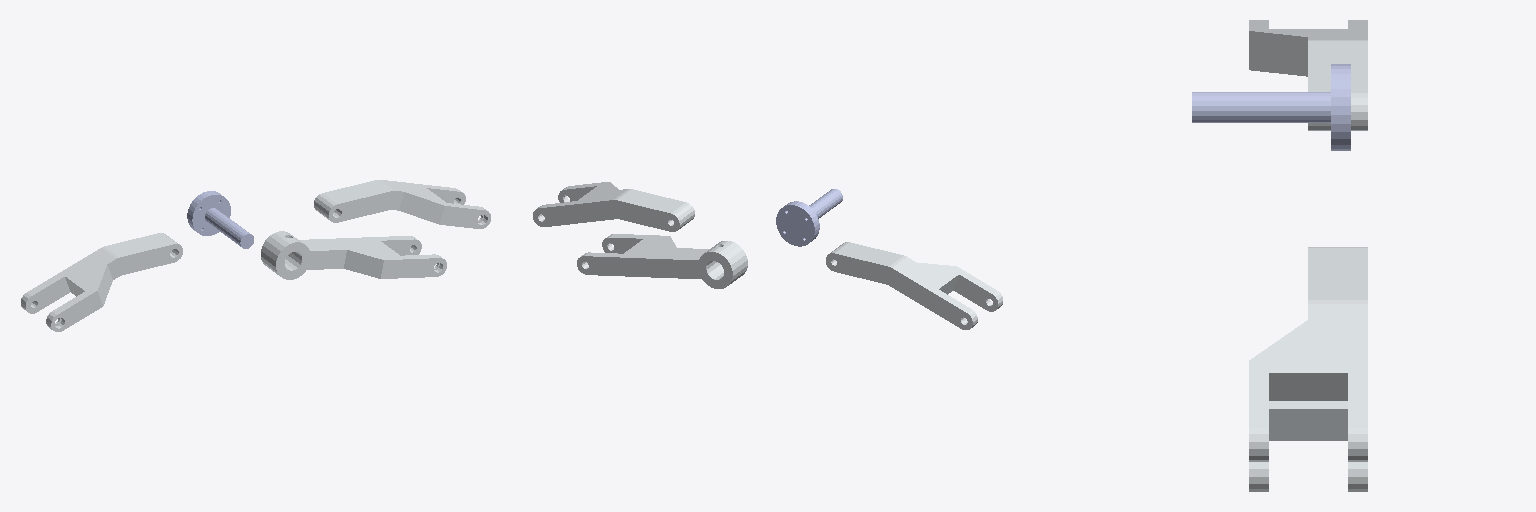
robot.urdf — gripper:
<robot

  
  name="gripper">
  <link
    name="base_link">
    <inertial>
      <origin
        xyz="0.000314385625916895 -0.0110896096035867 -0.0421598850024997"
        rpy="0 0 0" />
      <mass
        value="1.15466628725613" />
      <inertia
        ixx="0"
        ixy="0"
        ixz="0"
        iyy="0"
        iyz="0"
        izz="0" />
    </inertial>
    <self_collide>True</self_collide>
    <visual>
      <origin
        xyz="0 0 0"
        rpy="0 0 0" />
      <geometry>
        <mesh
          filename="package://suii_gripper/meshes/base_link.STL" />
      </geometry>
      <material
        name="">
        <color
          rgba="0.898039215686275 0.917647058823529 0.929411764705882 1" />
      </material>
    </visual>
    <collision>
      <origin
        xyz="0 0 0"
        rpy="0 0 0" />
      <geometry>
        <mesh
          filename="package://suii_gripper/meshes/base_link.STL" />
      </geometry>
    </collision>
  </link> 
  <link 
    name="servo_link">
    <inertial>
      <origin
        xyz="3.58979339309951E-16 0.0122205346294046 -6.93889390390723E-18"
        rpy="0 0 0" />
      <mass
        value="0.00361974305546616" />
      <inertia
        ixx="0"
        ixy="0"
        ixz="0"
        iyy="0"
        iyz="0"
        izz="0" />
    </inertial>
    <self_collide>True</self_collide>
    <visual>
      <origin
        xyz="0 0 0"
        rpy="0 0 0" />
      <geometry>
        <mesh
          filename="package://suii_gripper/meshes/servo_link.STL" />
      </geometry>
      <material
        name="">
        <color
          rgba="0.792156862745098 0.819607843137255 0.933333333333333 1" />
      </material>
    </visual>
    <collision>
      <origin
        xyz="0 0 0"
        rpy="0 0 0" />
      <geometry>
        <mesh
          filename="package://suii_gripper/meshes/servo_link.STL" />
      </geometry>
    </collision>
  </link>
  <joint
    name="servo"
    type="continuous">
    <origin
      xyz="-0.02175 0.01426 -0.0285"
      rpy="0 0 3.1416" />
    <parent
      link="base_link" />
    <child
      link="servo_link" />
    <axis
      xyz="0 1 0" />
  </joint> 
  <link
    name="rightTilted_link">
    <inertial>
      <origin
        xyz="0.0362280758621729 -0.00440456680250059 -0.00401068190727637"
        rpy="0 0 0" />
      <mass
        value="0.034397394962144" />
      <inertia
        ixx="0"
        ixy="0"
        ixz="0"
        iyy="0"
        iyz="0"
        izz="0" />
    </inertial>
    <self_collide>True</self_collide>

    <visual>
      <origin
        xyz="0 0 0"
        rpy="0 0 0" />
      <geometry>
        <mesh
          filename="package://suii_gripper/meshes/rightTilted_link.STL" />
      </geometry>
      <material
        name="">
        <color
          rgba="0.898039215686275 0.917647058823529 0.929411764705882 1" />
      </material>
    </visual>
    <collision>
      <origin
        xyz="0 0 0"
        rpy="0 0 0" />
      <geometry>
        <mesh
          filename="package://suii_gripper/meshes/rightTilted_link.STL" />
      </geometry>
    </collision>
  </link>
  <joint
    name="rightTilted"
    type="continuous">
    <origin
      xyz="-0.04625 0.0035 -0.041"
      rpy="0 0 3.1416" />
    <parent
      link="base_link" />
    <child
      link="rightTilted_link" />
    <axis
      xyz="0 1 0" />
  </joint>
  <link
    name="rightStraight_ink">
    <inertial>
      <origin
        xyz="0.031803880095001 -0.00383013954258074 -0.00624412256539431"
        rpy="0 0 0" />
      <mass
        value="0.0412389600755427" />
      <inertia
        ixx="0"
        ixy="0"
        ixz="0"
        iyy="0"
        iyz="0"
        izz="0" />
    </inertial>
    <self_collide>True</self_collide>

    <visual>
      <origin
        xyz="0 0 0"
        rpy="0 0 0" />
      <geometry>
        <mesh
          filename="package://suii_gripper/meshes/rightStraight_ink.STL" />
      </geometry>
      <material
        name="">
        <color
          rgba="0.898039215686275 0.917647058823529 0.929411764705882 1" />
      </material>
    </visual>
    <collision>
      <origin
        xyz="0 0 0"
        rpy="0 0 0" />
      <geometry>
        <mesh
          filename="package://suii_gripper/meshes/rightStraight_ink.STL" />
      </geometry>
    </collision>
  </link>
  <joint
    name="rightStraight"
    type="continuous">
    <origin
      xyz="-0.02125 0.0035 -0.061"
      rpy="0 0 3.1416" />
    <parent
      link="base_link" />
    <child
      link="rightStraight_ink" />
    <axis
      xyz="0 1 0" />
  </joint>
  <link
    name="fingerRightLeft_link">
    <inertial>
      <origin
        xyz="0.00267701171751486 -3.57353036051222E-16 -0.00353142500094274"
        rpy="0 0 0" />
      <mass
        value="0.0360851632485204" />
      <inertia
        ixx="0"
        ixy="0"
        ixz="0"
        iyy="0"
        iyz="0"
        izz="0" />
    </inertial>
    <self_collide>True</self_collide>

    <visual>
      <origin
        xyz="0 0 0"
        rpy="0 0 0" />
      <geometry>
        <mesh
          filename="package://suii_gripper/meshes/fingerRightLeft_link.STL" />
      </geometry>
      <material
        name="">
        <color
          rgba="0.898039215686275 0.917647058823529 0.929411764705882 1" />
      </material>
    </visual>
    <collision>
      <origin
        xyz="0 0 0"
        rpy="0 0 0" />
      <geometry>
        <mesh
          filename="package://suii_gripper/meshes/fingerRightLeft_link.STL" />
      </geometry>
    </collision>
  </link>
  <joint
    name="fingerRightLeft_link2"
    type="continuous">
    <origin
      xyz="0.083548 0 -0.010487"
      rpy="0 0 0" />
    <parent
      link="rightStraight_ink" />
    <child
      link="fingerRightLeft_link" />
    <axis
      xyz="0 1 0" />
  </joint>
  <link
    name="leftStraight_link">
    <inertial>
      <origin
        xyz="-0.0317914966065302 -0.00383013974586561 -0.00630685637830356"
        rpy="0 0 0" />
      <mass
        value="0.0412389650707455" />
      <inertia
        ixx="0"
        ixy="0"
        ixz="0"
        iyy="0"
        iyz="0"
        izz="0" />
    </inertial>
    <self_collide>True</self_collide>

    <visual>
      <origin
        xyz="0 0 0"
        rpy="0 0 0" />
      <geometry>
        <mesh
          filename="package://suii_gripper/meshes/leftStraight_link.STL" />
      </geometry>
      <material
        name="">
        <color
          rgba="0.898039215686275 0.917647058823529 0.929411764705882 1" />
      </material>
    </visual>
    <collision>
      <origin
        xyz="0 0 0"
        rpy="0 0 0" />
      <geometry>
        <mesh
          filename="package://suii_gripper/meshes/leftStraight_link.STL" />
      </geometry>
    </collision>
  </link>
  <joint
    name="leftStraight"
    type="continuous">
    <origin
      xyz="0.02125 0.0035 -0.061"
      rpy="0 0 3.1416" />
    <parent
      link="base_link" />
    <child
      link="leftStraight_link" />
    <axis
      xyz="0 1 0" />
  </joint>
  <link
    name="leftTilted_link">
    <inertial>
      <origin
        xyz="-0.0362280758621757 -0.00440456680250058 -0.00401068190727924"
        rpy="0 0 0" />
      <mass
        value="0.0343973949621441" />
      <inertia
        ixx="0"
        ixy="0"
        ixz="0"
        iyy="0"
        iyz="0"
        izz="0" />
    </inertial>
    <self_collide>True</self_collide>

    <visual>
      <origin
        xyz="0 0 0"
        rpy="0 0 0" />
      <geometry>
        <mesh
          filename="package://suii_gripper/meshes/leftTilted_link.STL" />
      </geometry>
      <material
        name="">
        <color
          rgba="0.898039215686275 0.917647058823529 0.929411764705882 1" />
      </material>
    </visual>
    <collision>
      <origin
        xyz="0 0 0"
        rpy="0 0 0" />
      <geometry>
        <mesh
          filename="package://suii_gripper/meshes/leftTilted_link.STL" />
      </geometry>
    </collision>
  </link>
  <joint
    name="leftTilted"
    type="continuous">
    <origin
      xyz="0.04625 0.0035 -0.041"
      rpy="0 0 3.1416" />
    <parent
      link="base_link" />
    <child
      link="leftTilted_link" />
    <axis
      xyz="0 1 0" />
  </joint>
  <link
    name="fingerLeftLeft_link">
    <inertial>
      <origin
        xyz="-0.00256530007946196 0 -0.00350460540950224"
        rpy="0 0 0" />
      <mass
        value="0.0360851632485204" />
      <inertia
        ixx="0"
        ixy="0"
        ixz="0"
        iyy="0"
        iyz="0"
        izz="0" />
    </inertial>
    <self_collide>True</self_collide>

    <visual>
      <origin
        xyz="0 0 0"
        rpy="0 0 0" />
      <geometry>
        <mesh
          filename="package://suii_gripper/meshes/fingerLeftLeft_link.STL" />
      </geometry>
      <material
        name="">
        <color
          rgba="0.898039215686275 0.917647058823529 0.929411764705882 1" />
      </material>
    </visual>
    <collision>
      <origin
        xyz="0 0 0"
        rpy="0 0 0" />
      <geometry>
        <mesh
          filename="package://suii_gripper/meshes/fingerLeftLeft_link.STL" />
      </geometry>
    </collision>
  </link>
  <joint
    name="fingerLeftLeft"
    type="continuous">
    <origin
      xyz="-0.058548 0 -0.030487"
      rpy="0 0 0" />
    <parent
      link="leftTilted_link" />
    <child
      link="fingerLeftLeft_link" />
    <axis
      xyz="0 1 0" />
  </joint>
  <gazebo reference="gripper">
    <static>true</static>
  </gazebo>

</robot>

--- Render facts (derived) ---
Views: 3 orthographic renders of the robot side by side, from view 1: azimuth 30°, elevation 25°; view 2: azimuth 150°, elevation 25°; view 3: azimuth 270°, elevation 25°.
Robot: gripper — 8 links, 7 joints (7 continuous); root link base_link; default pose: all joints at 0.
Visible links, largest first — view 1: leftStraight_link, rightTilted_link, leftTilted_link, servo_link; view 2: rightTilted_link, leftStraight_link, leftTilted_link, servo_link; view 3: leftTilted_link, rightTilted_link, servo_link, leftStraight_link.
Boxes of the visible links, x1=… form: leftStraight_link: x1=261, y1=231, x2=446, y2=279; rightTilted_link: x1=21, y1=233, x2=182, y2=331; leftTilted_link: x1=314, y1=180, x2=490, y2=228; servo_link: x1=187, y1=191, x2=253, y2=248; rightTilted_link: x1=826, y1=242, x2=1002, y2=329; leftStraight_link: x1=577, y1=234, x2=747, y2=288; leftTilted_link: x1=533, y1=182, x2=694, y2=231; servo_link: x1=776, y1=189, x2=842, y2=246; leftTilted_link: x1=1249, y1=247, x2=1367, y2=461; rightTilted_link: x1=1249, y1=20, x2=1367, y2=130; servo_link: x1=1192, y1=64, x2=1350, y2=150; leftStraight_link: x1=1249, y1=401, x2=1367, y2=491.
Size in the robot's own frame: 0.2496 by 0.0442 by 0.0629 metres.
Meshes: 8 distinct files referenced, 4 mesh visuals loaded (4 binary STL); not drawn: 4 (reference not matched to a file when rendering).
